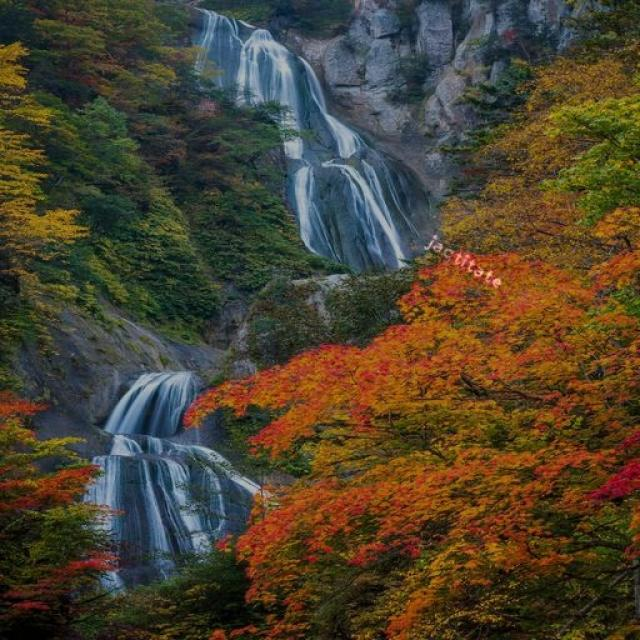watermark: (420, 231, 511, 293)
